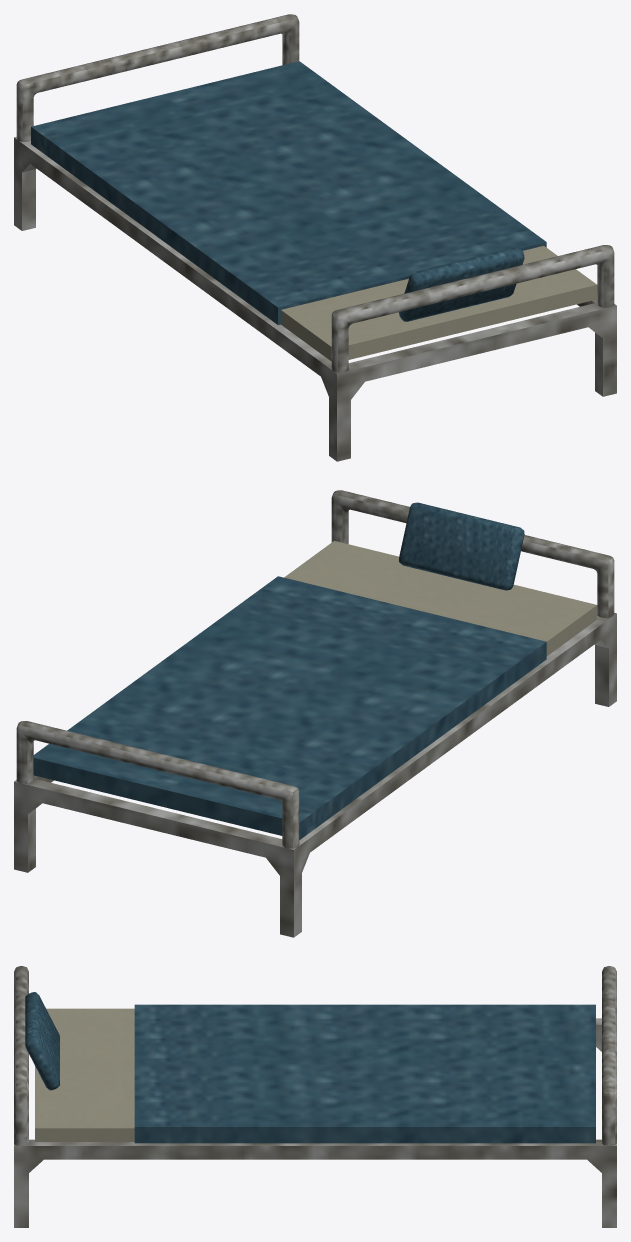
Rendered from Bed.fbx.
The picture shows the model from 3 angles, top to bottom: view 1: azimuth 30°, elevation 25°; view 2: azimuth 150°, elevation 25°; view 3: azimuth 270°, elevation 25°; orthographic projection. The views are drawn at different scales.
Parts seen in each view (by area): view 1: Bed; view 2: Bed; view 3: Bed.
Boxes of the visible parts, x1,y1,x2,y2 form: Bed: (14, 14, 616, 461); Bed: (14, 490, 616, 937); Bed: (14, 966, 616, 1227).
Size of the model in its own units: 100 by 54.39 by 200.
